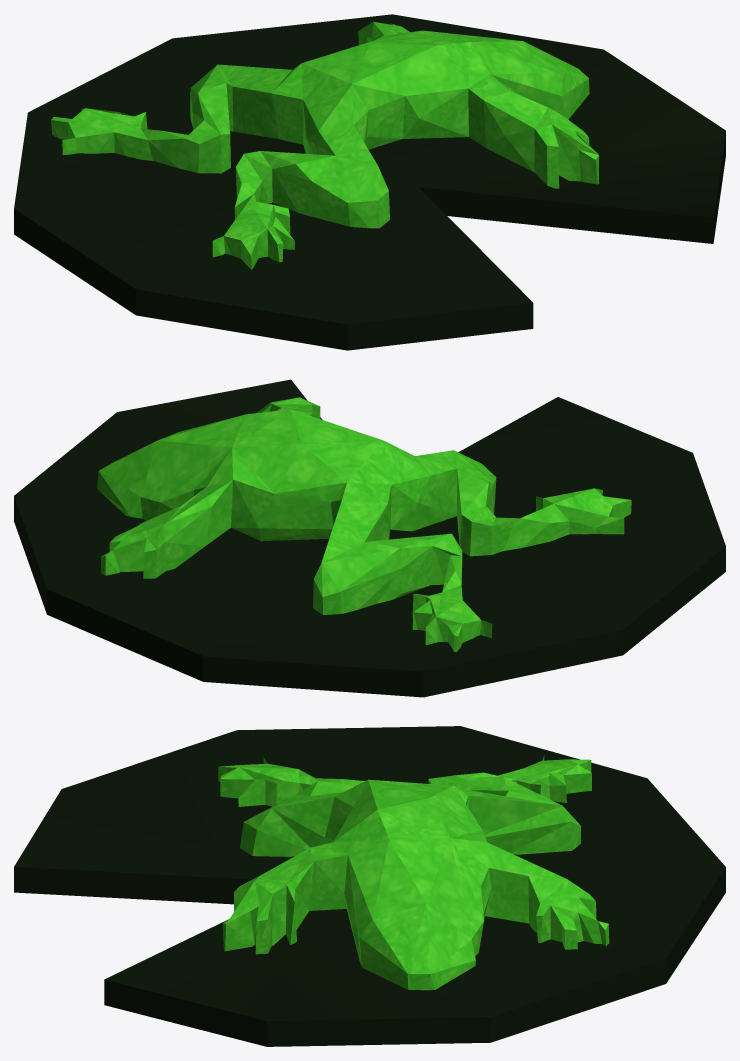
Rendered from frog.fbx.
3 renders of one model, top to bottom at view 1: azimuth 30°, elevation 25°; view 2: azimuth 150°, elevation 25°; view 3: azimuth 270°, elevation 25°, orthographic.
Visible parts, largest first — view 1: Lilypad_Cylinder.001, Frog_Plane.004; view 2: Lilypad_Cylinder.001, Frog_Plane.004; view 3: Lilypad_Cylinder.001, Frog_Plane.004.
Boxes of the visible parts, bbox=[...] form: Lilypad_Cylinder.001: bbox=[14, 14, 725, 350]; Frog_Plane.004: bbox=[51, 21, 599, 269]; Lilypad_Cylinder.001: bbox=[14, 379, 725, 697]; Frog_Plane.004: bbox=[97, 397, 631, 651]; Lilypad_Cylinder.001: bbox=[14, 726, 725, 1046]; Frog_Plane.004: bbox=[218, 755, 609, 990].
Bounding box in the file's own units: 93.28 × 19.01 × 95.08.
Materials: 2 (1 with a texture image).
